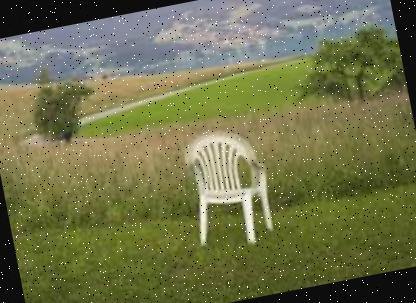chair: (176, 120, 284, 255)
